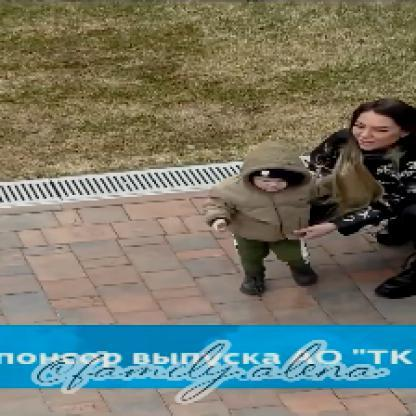child: (203, 142, 337, 298)
